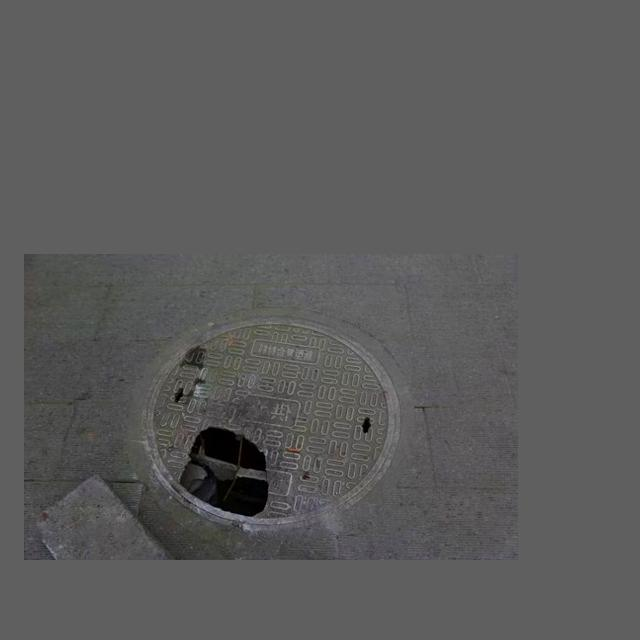broke: (133, 304, 412, 528)
